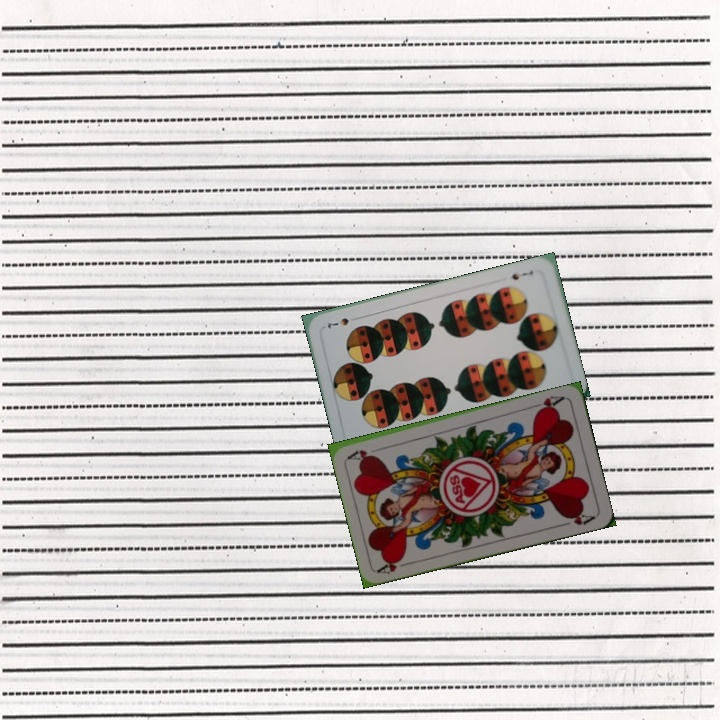HA: (374, 553, 414, 577), (527, 392, 567, 415)
S7: (508, 266, 536, 283)
